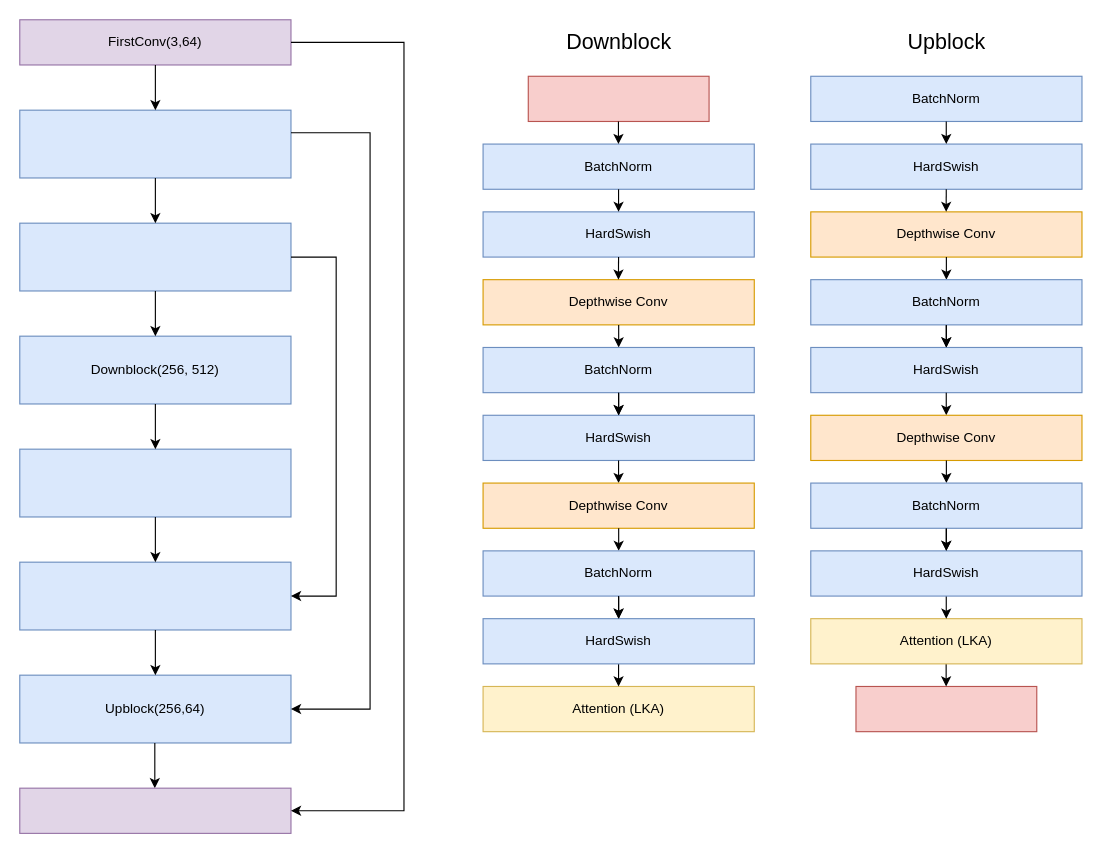
This 1102x853 diagram has some shape labels left out. Here are the shapes that lost their labels. From the top down, the centre of each, then its label:
At (x=618, y=98): "SPDConv".
At (x=155, y=143): "Downblock(64,128)".
At (x=155, y=256): "Downblock(128, 256)".
At (x=155, y=482): "Upblock(512, 256)".
At (x=155, y=595): "Upblock(512, 128)".
At (x=946, y=708): "ConvTranspose".
At (x=155, y=810): "Conv2d(128,1)".
